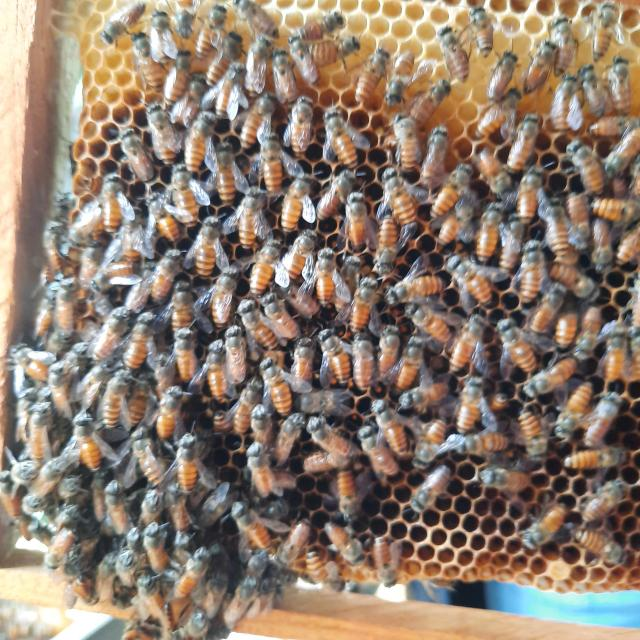honeybee: (501, 317, 553, 385), (117, 287, 161, 365), (356, 408, 408, 474), (352, 530, 412, 586), (83, 302, 134, 367), (497, 518, 575, 560), (242, 446, 301, 500), (194, 334, 242, 399), (58, 192, 123, 240), (113, 133, 174, 183), (336, 184, 382, 250), (441, 317, 496, 370), (260, 292, 316, 344), (326, 112, 379, 166), (268, 360, 320, 414), (120, 579, 166, 640), (322, 476, 383, 519), (96, 242, 146, 294), (274, 46, 316, 107), (135, 110, 184, 162), (102, 544, 153, 593), (487, 461, 542, 506), (565, 449, 640, 482), (276, 189, 318, 247), (206, 76, 264, 118), (313, 38, 380, 74), (223, 189, 274, 236), (261, 128, 303, 185), (32, 281, 77, 334), (63, 431, 117, 475), (594, 328, 640, 379), (345, 334, 383, 395), (447, 255, 487, 312), (564, 132, 609, 182), (169, 312, 204, 376), (316, 333, 359, 385), (395, 337, 440, 386), (370, 400, 415, 449), (385, 127, 435, 171), (150, 184, 187, 243), (431, 209, 472, 262), (586, 198, 640, 238), (287, 339, 326, 394), (236, 12, 295, 48), (191, 41, 245, 80), (134, 260, 204, 290), (536, 196, 566, 266), (588, 398, 630, 448), (447, 438, 516, 468), (580, 528, 622, 577), (150, 380, 188, 434), (241, 409, 291, 450), (406, 90, 466, 124), (278, 241, 323, 285), (517, 404, 558, 452), (22, 346, 61, 396), (451, 382, 493, 428), (428, 31, 469, 78), (199, 214, 230, 276), (242, 294, 282, 342), (283, 517, 322, 565), (241, 38, 278, 88), (349, 61, 392, 104), (548, 252, 590, 296), (380, 64, 425, 105), (122, 44, 168, 84), (208, 272, 244, 323), (543, 76, 579, 127), (206, 149, 245, 196), (610, 64, 640, 125), (310, 252, 340, 313), (108, 220, 157, 257), (170, 427, 207, 476), (585, 15, 624, 61), (382, 328, 413, 385), (163, 172, 205, 214), (386, 266, 435, 302), (288, 100, 328, 144), (406, 475, 461, 507), (590, 484, 634, 524), (493, 230, 523, 288), (513, 370, 582, 395), (174, 563, 221, 599), (90, 372, 120, 425), (512, 55, 548, 99), (306, 21, 374, 44), (244, 553, 274, 605), (308, 172, 359, 202), (295, 34, 328, 80), (229, 492, 261, 538), (102, 6, 163, 30), (144, 514, 168, 574), (144, 16, 180, 55), (428, 174, 463, 214), (508, 168, 541, 210), (496, 129, 542, 159), (181, 108, 205, 163), (306, 420, 355, 446), (466, 12, 501, 48), (484, 52, 514, 94), (390, 173, 416, 220), (400, 297, 437, 330), (580, 67, 606, 113), (520, 245, 546, 291), (532, 286, 559, 329), (563, 318, 585, 370), (374, 202, 395, 254), (474, 145, 506, 179), (158, 78, 189, 113), (98, 486, 127, 522), (104, 165, 130, 205), (166, 287, 198, 316), (253, 240, 271, 291), (546, 28, 576, 58), (354, 287, 383, 318), (194, 16, 232, 39), (478, 103, 504, 136), (421, 139, 456, 163), (472, 205, 493, 244), (159, 72, 190, 90)
